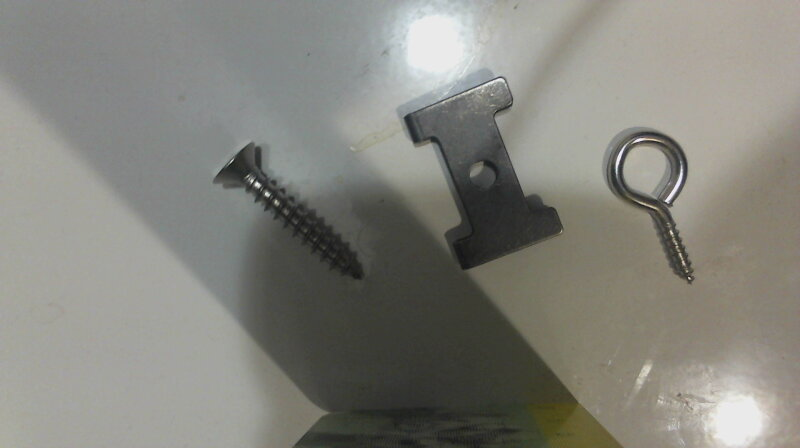O001: (602, 128, 700, 291)
O002: (396, 74, 566, 273)
S001: (204, 136, 370, 286)
